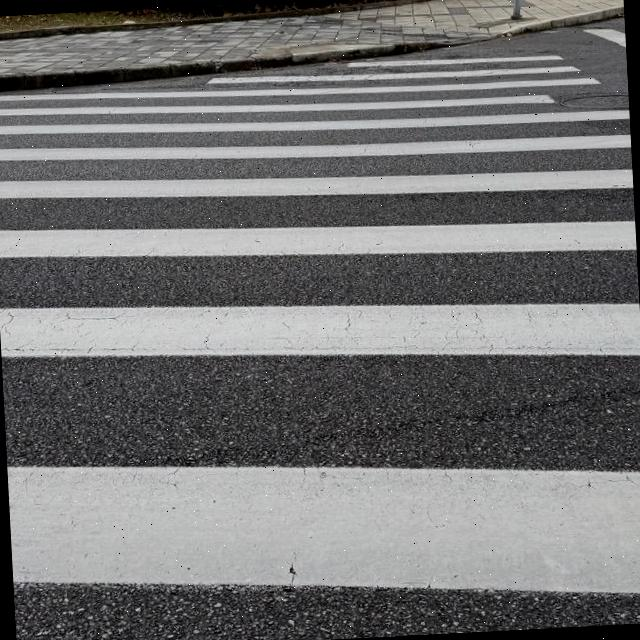curb: (0, 40, 473, 91), (0, 8, 356, 40), (475, 7, 623, 40)
